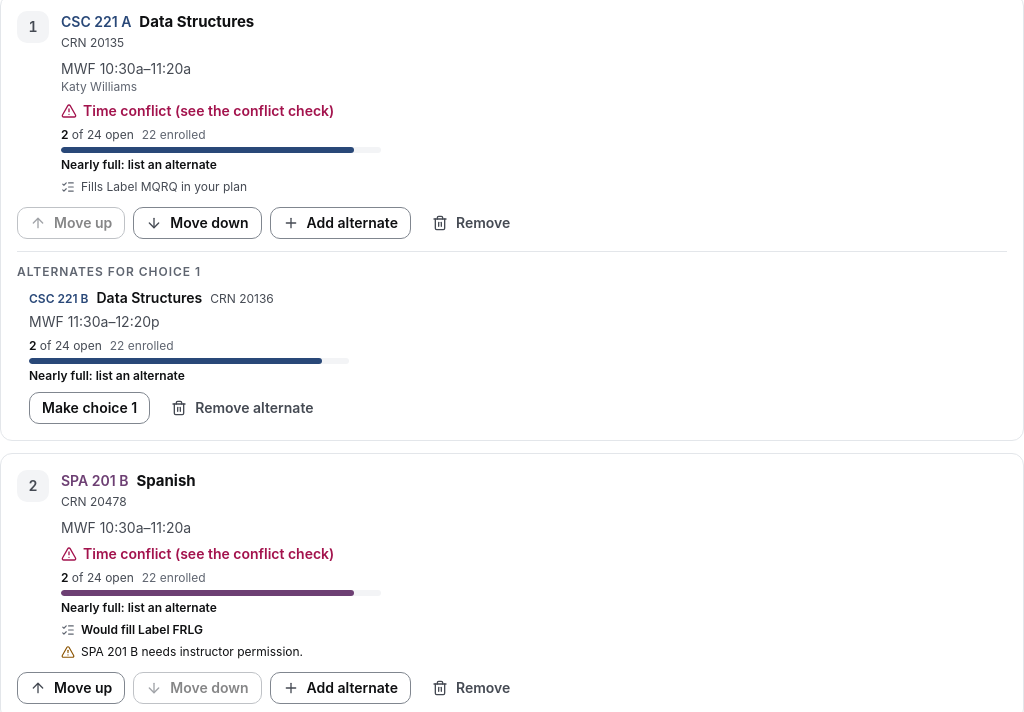
Scenario: WebTreeEditor › an 'Add alternate' target follows its choice when the list is reordered
Click the button named "Add alternate for SPA 201 B". click: (340, 688)
box: [270,672,411,704]
(page scrolled)
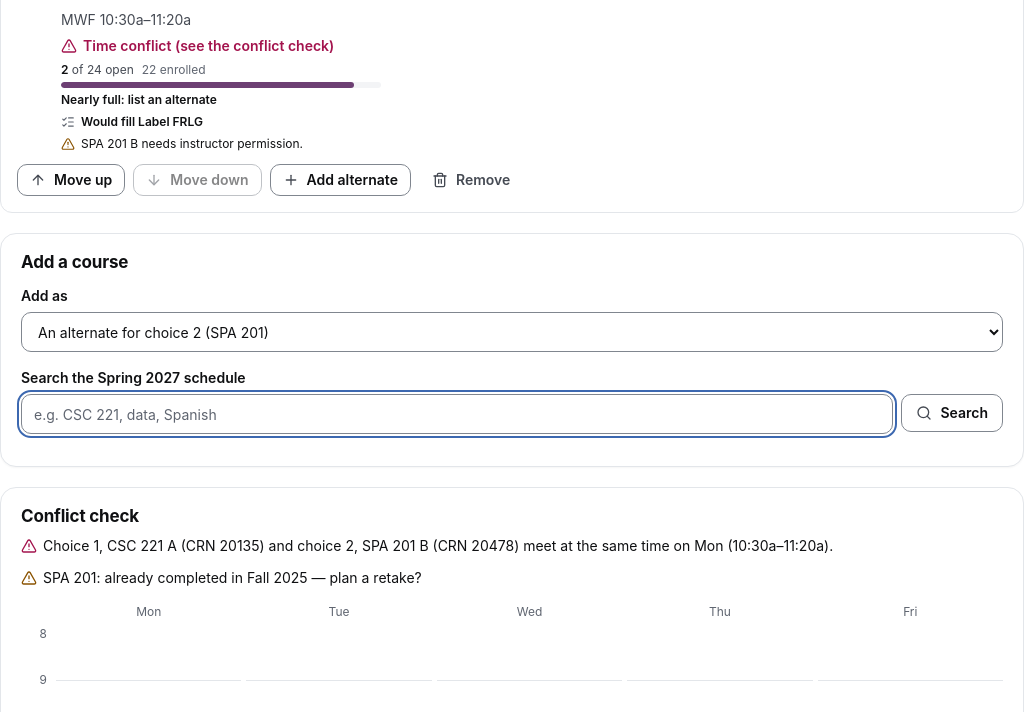
expect the dropdown labelled "Add as" shows "An alternate for choice 2 (SPA 201)": met, box [21,312,1003,352]
Click the button named "Move up SPA 201 B". click: (71, 180)
box: [17,164,125,196]
(page scrolled)
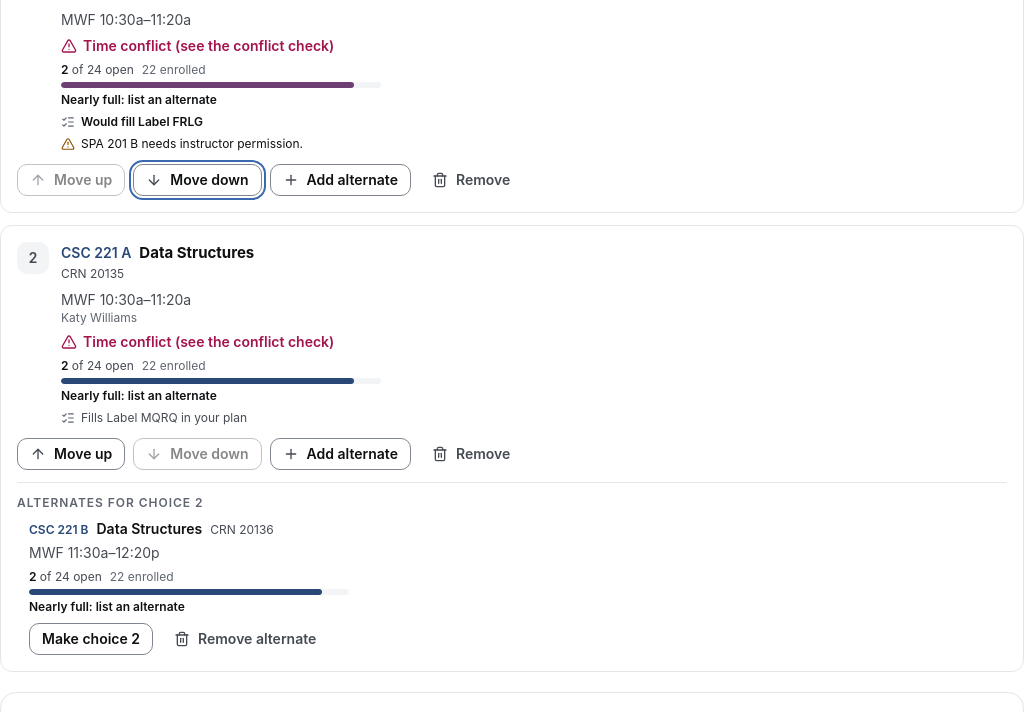
Click the button named "Remove SPA 201 B". click: (471, 180)
box: [419,164,523,196]
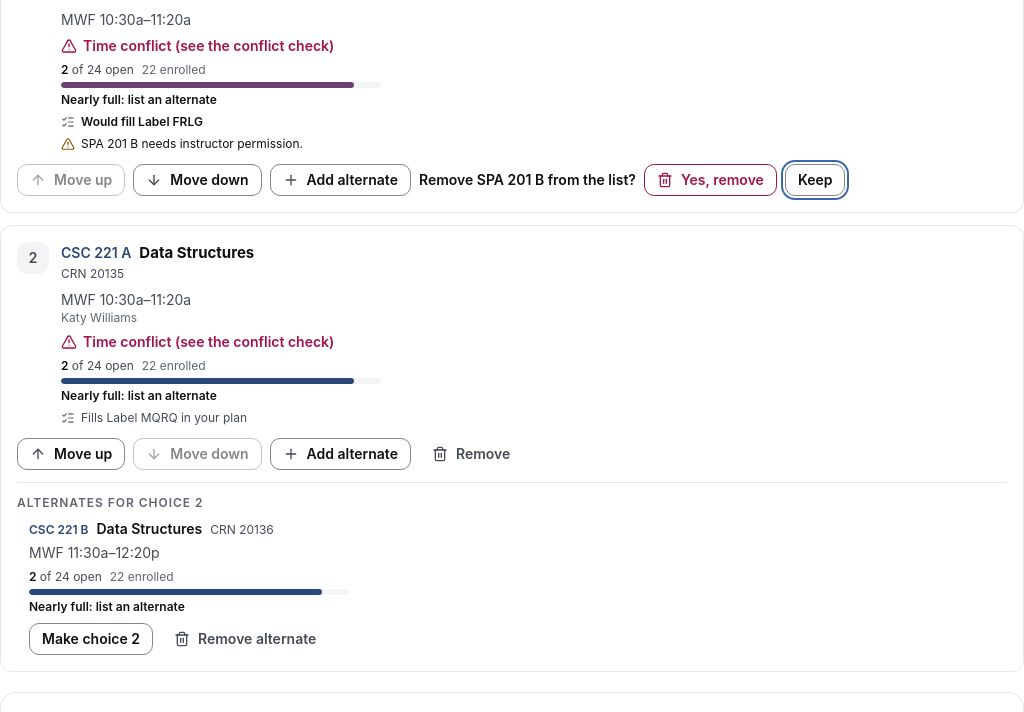
Click the button "Yes, remove". click: (710, 180)
box: [644,164,777,196]
(page scrolled)
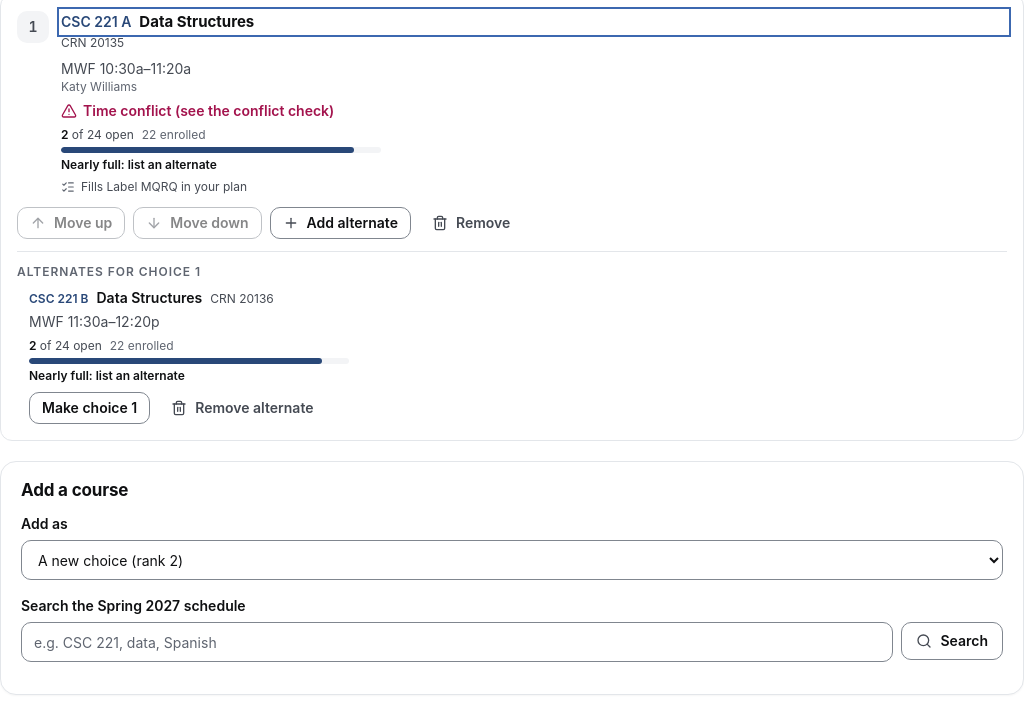
expect the dropdown labelled "Add as" shows "A new choice (rank 2)": met, box [21,540,1003,580]
